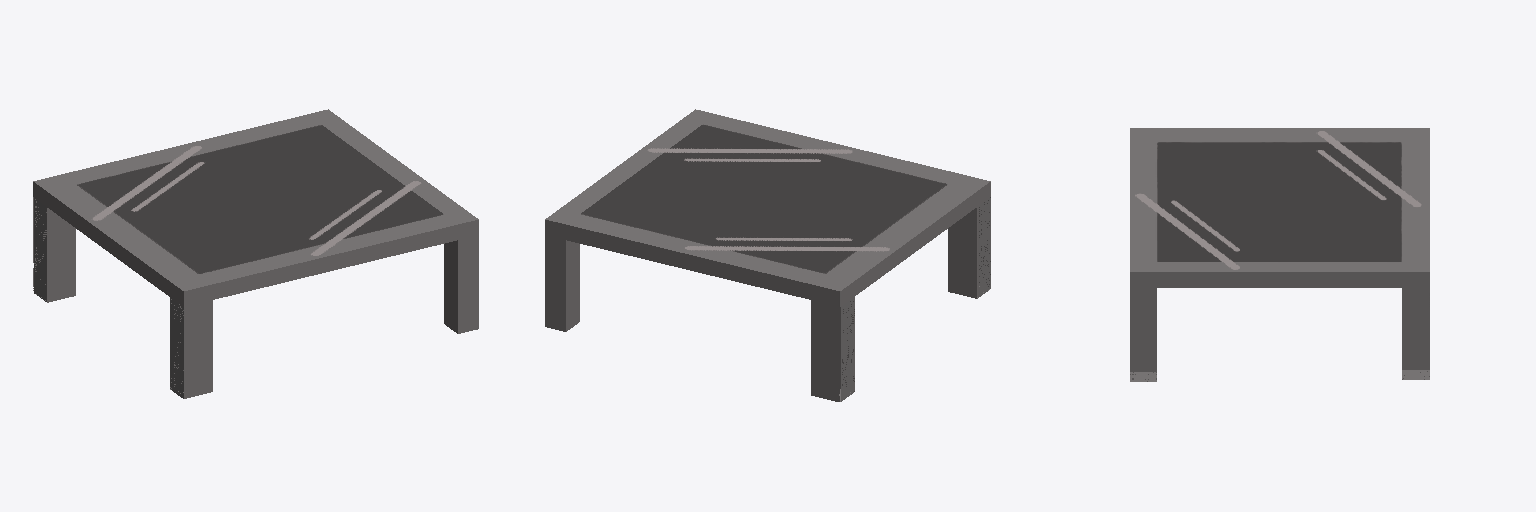
3 renders of one model, left to right at view 1: azimuth 30°, elevation 25°; view 2: azimuth 150°, elevation 25°; view 3: azimuth 270°, elevation 25°, orthographic.
Visible parts, largest first — view 1: pCube1; view 2: pCube1; view 3: pCube1.
Part boxes in pixels (x1,y1,x2,y2): pCube1: (33, 109, 478, 398); pCube1: (545, 109, 990, 401); pCube1: (1130, 128, 1429, 381).
Bounding box in the file's own units: 15.89 × 5.72 × 14.03.
1 materials, 1 textured.